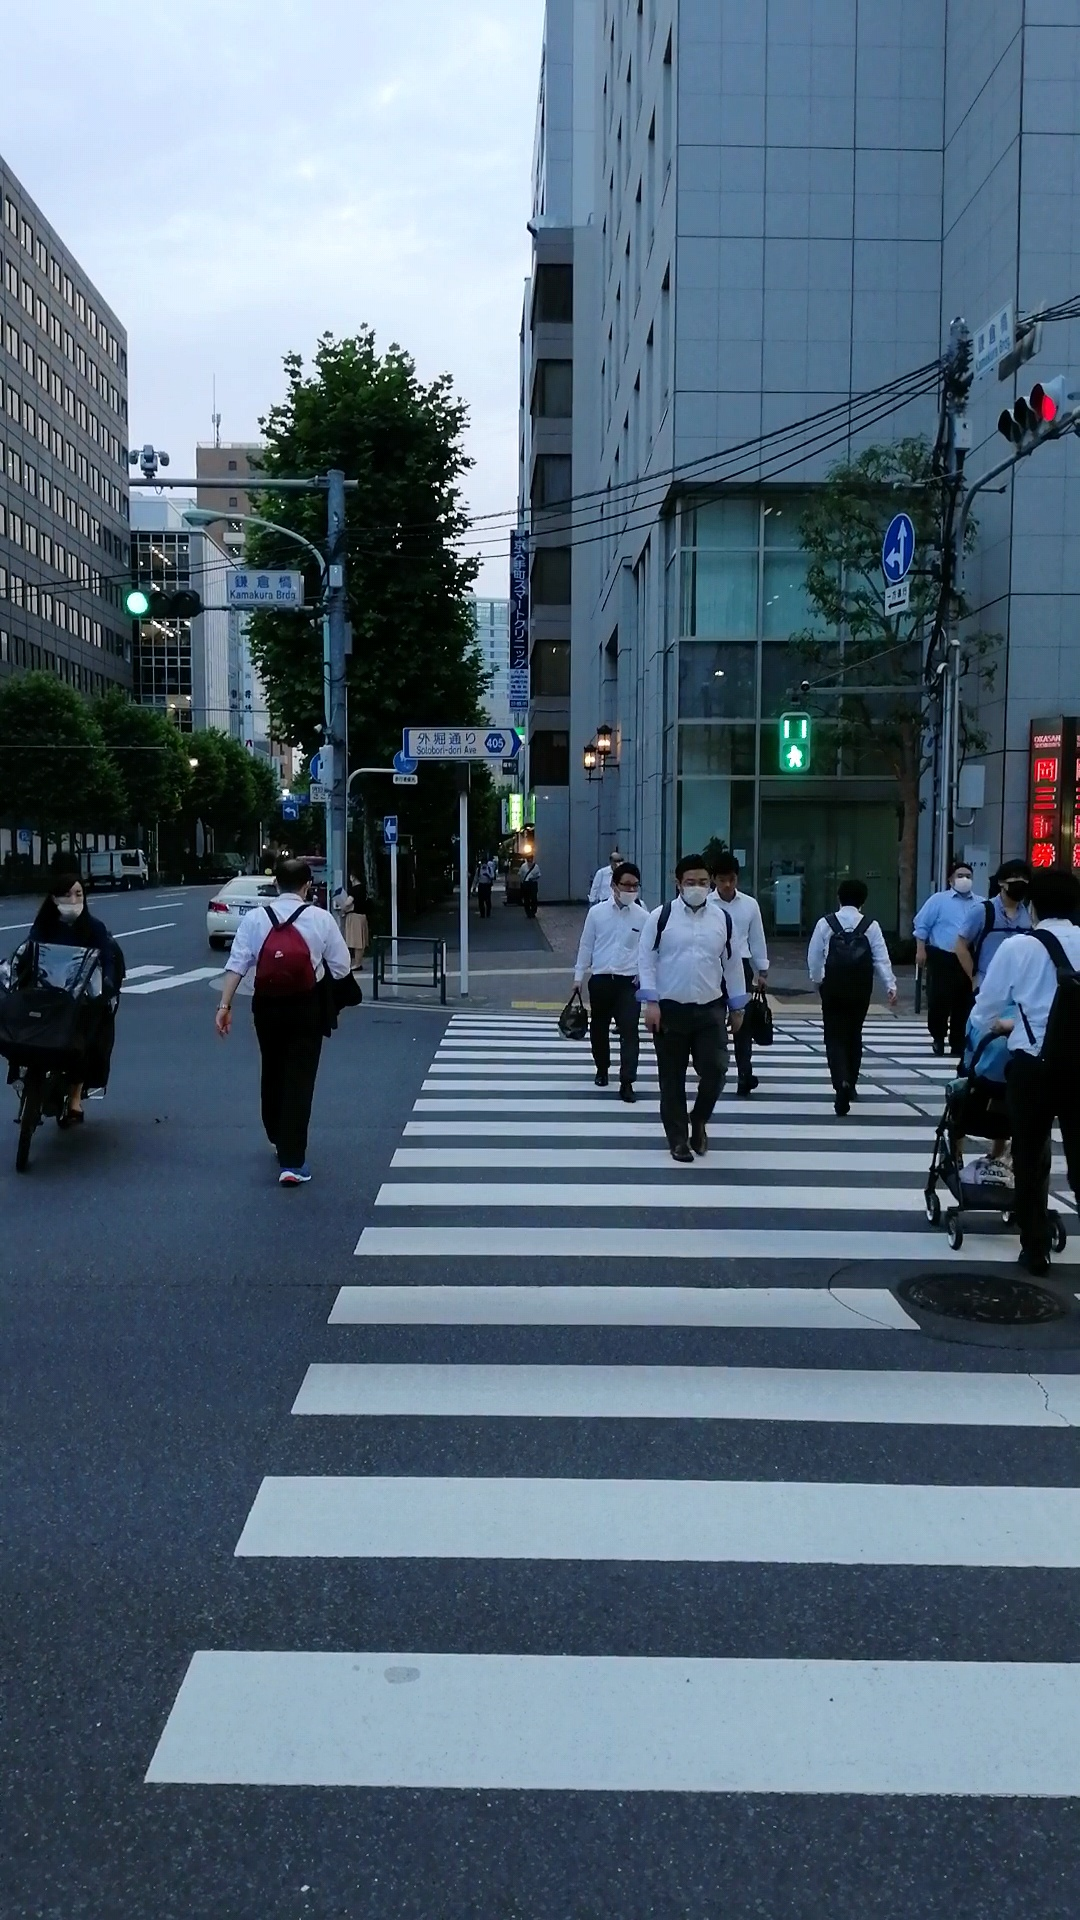green: (777, 711, 810, 771)
